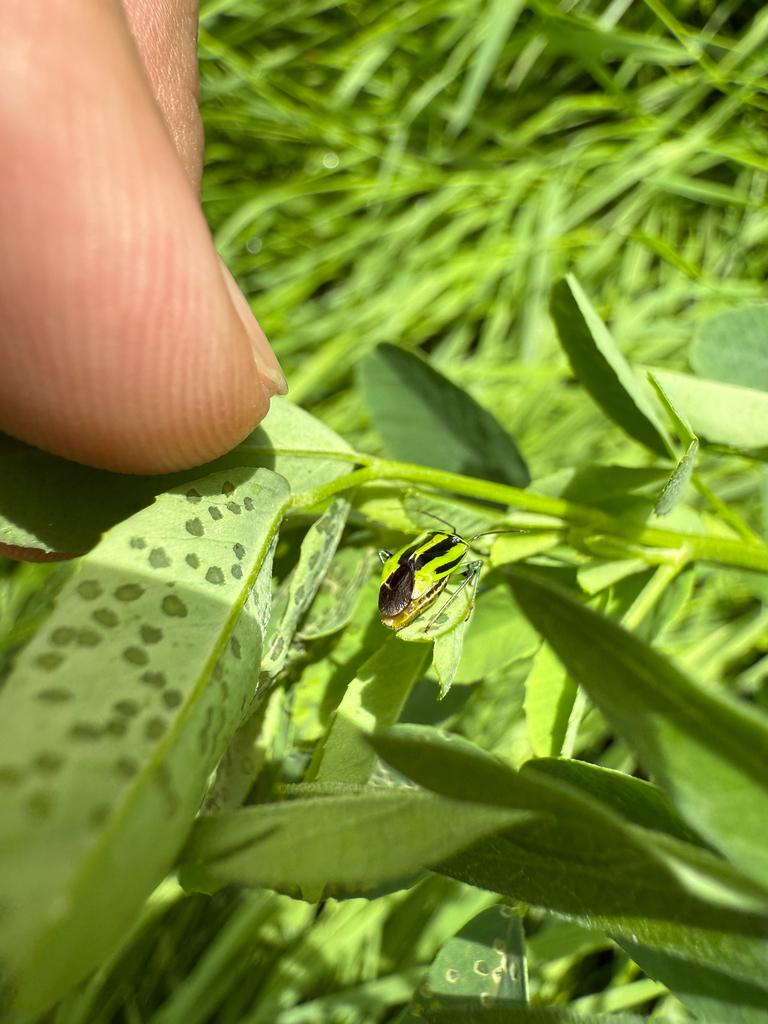plant_bugs: (351, 489, 503, 657)
